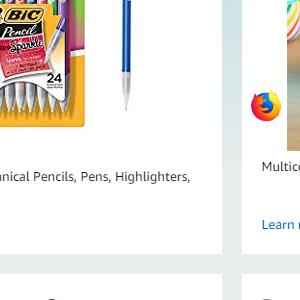firefox: (251, 89, 282, 121)
